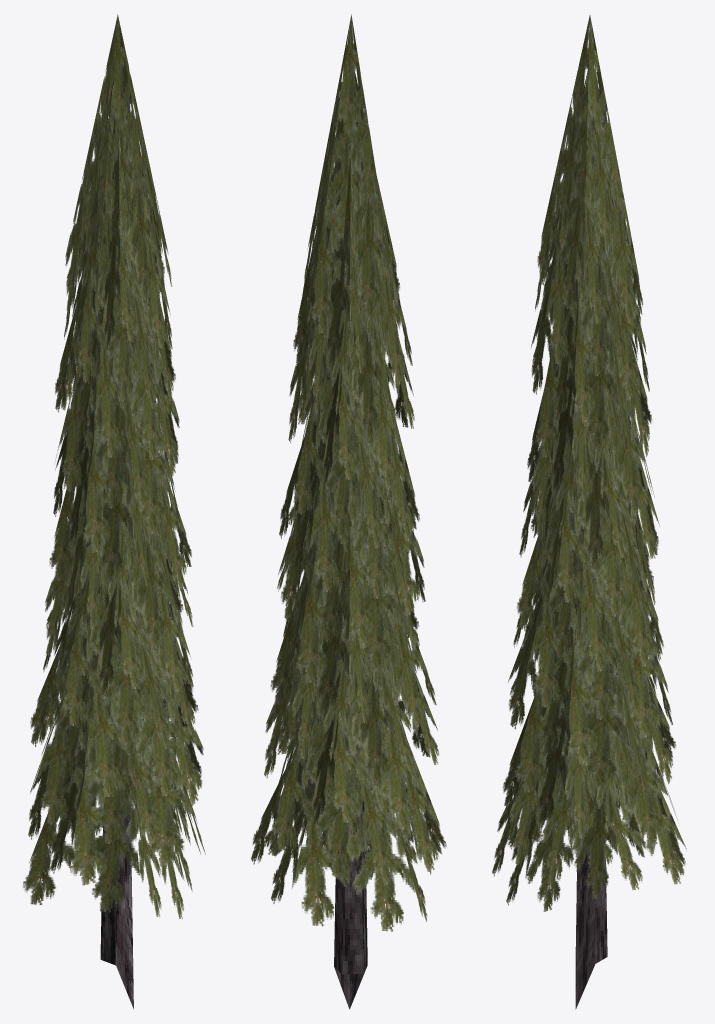
The model's file is tall fir.glb.
3 renders of one model, left to right at view 1: azimuth 30°, elevation 25°; view 2: azimuth 150°, elevation 25°; view 3: azimuth 270°, elevation 25°, orthographic.
Visible parts, largest first — view 1: Tall Fir Tree; view 2: Tall Fir Tree; view 3: Tall Fir Tree.
Part boxes in pixels (bbox=[...]): Tall Fir Tree: bbox=[22, 14, 205, 1009]; Tall Fir Tree: bbox=[251, 14, 446, 1009]; Tall Fir Tree: bbox=[492, 15, 686, 1009].
Size of the model in its own units: 5.76 by 30.98 by 6.15.
Materials: 2 (2 with a texture image).
